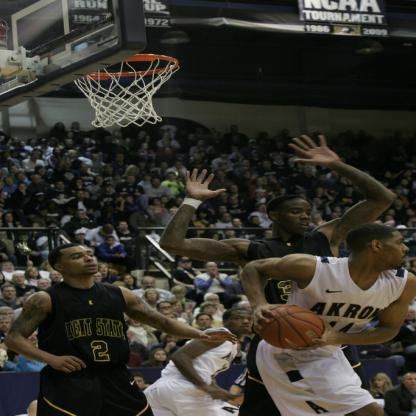Ball: (261, 304, 323, 349)
